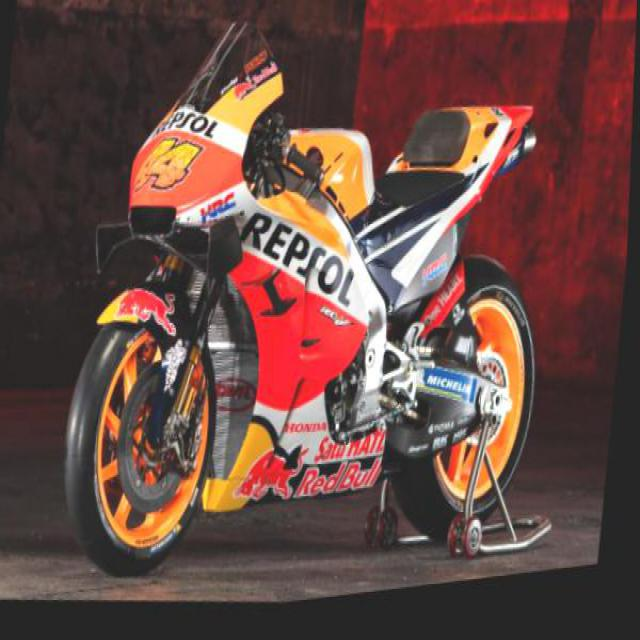HRC RCV 213: (55, 0, 576, 632)
